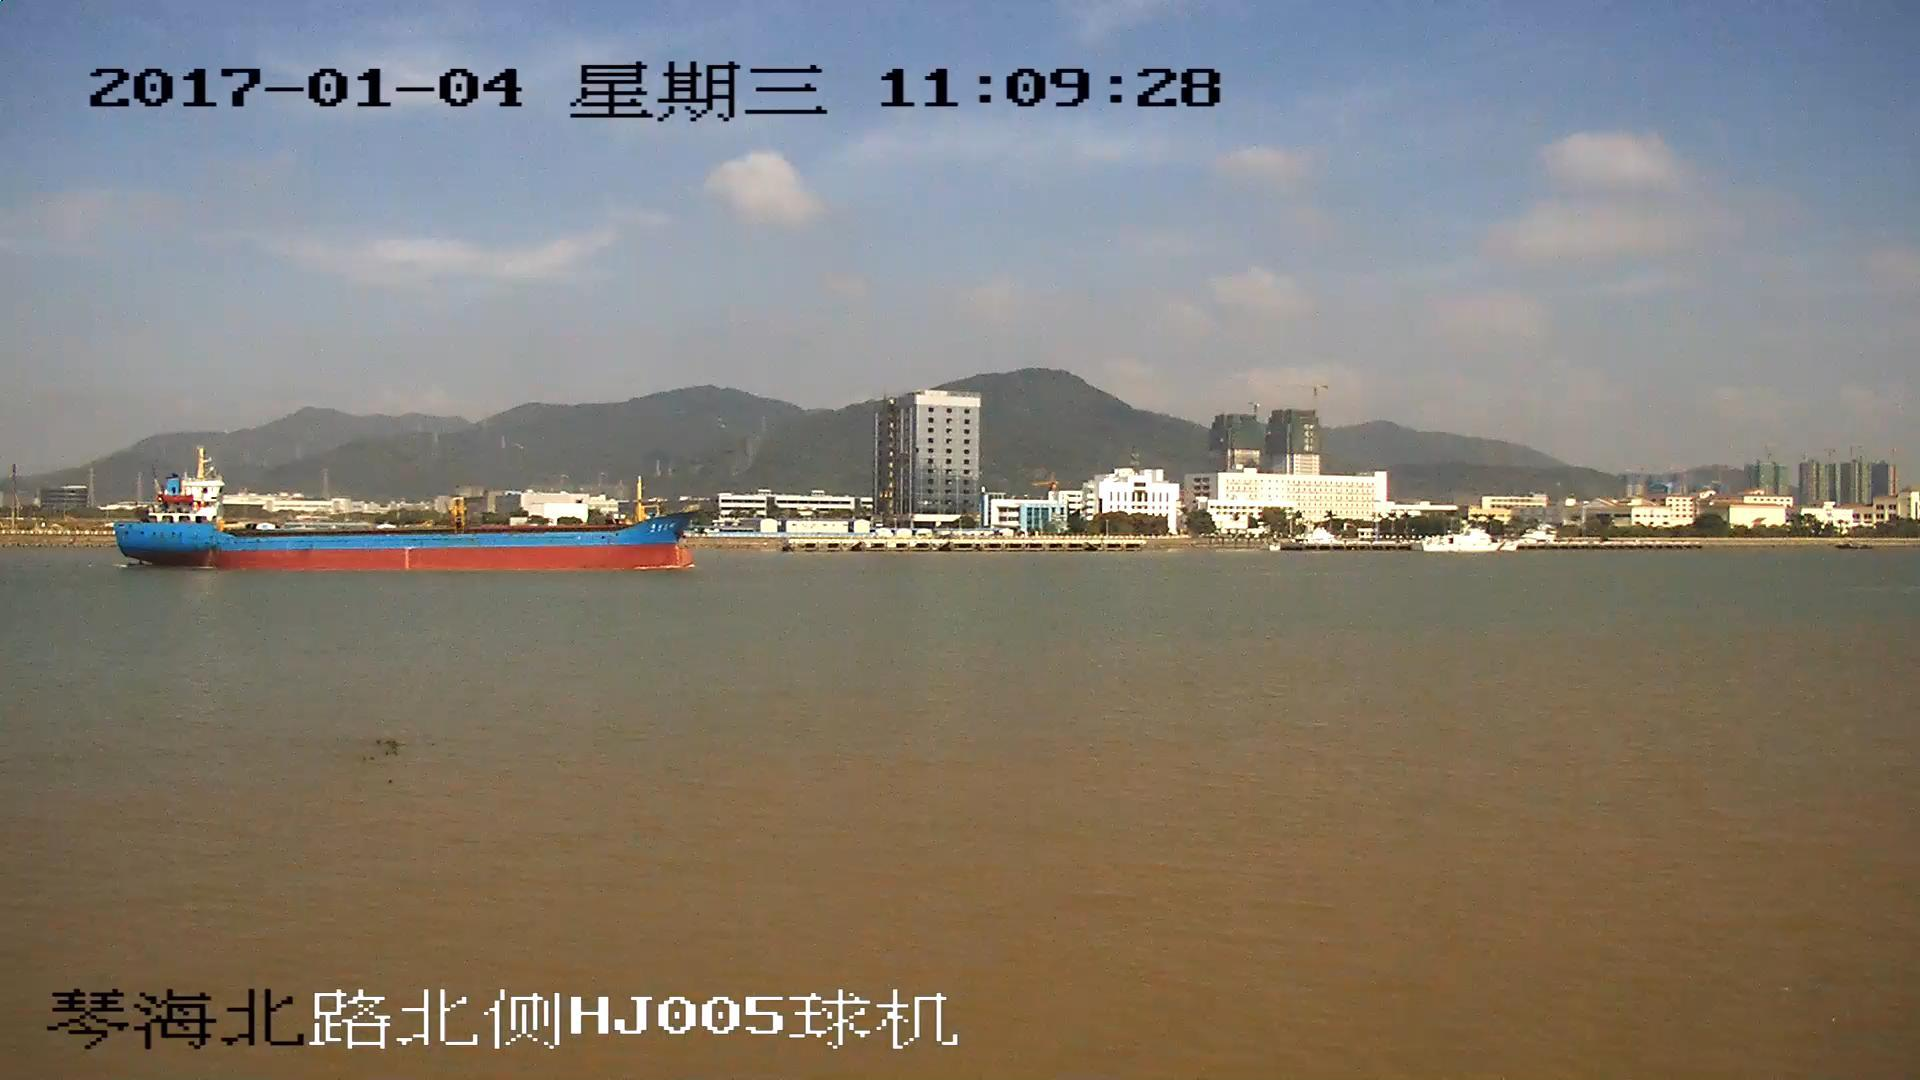Ship: (117, 450, 704, 575)
